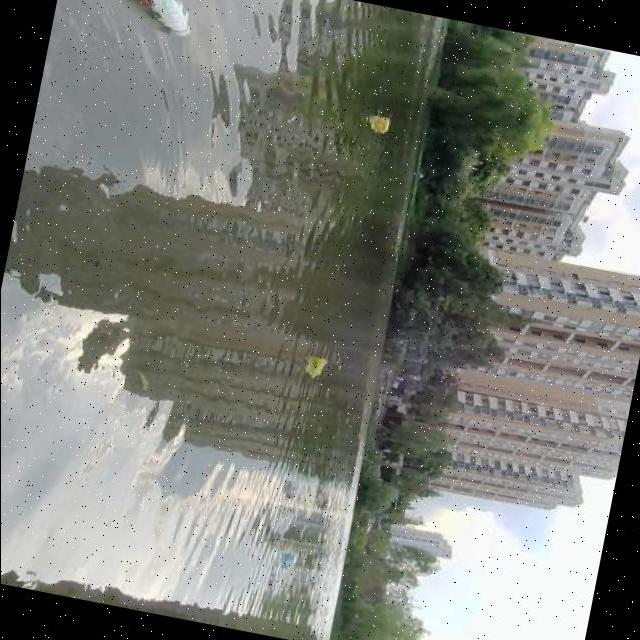Bottle: (361, 101, 399, 147)
